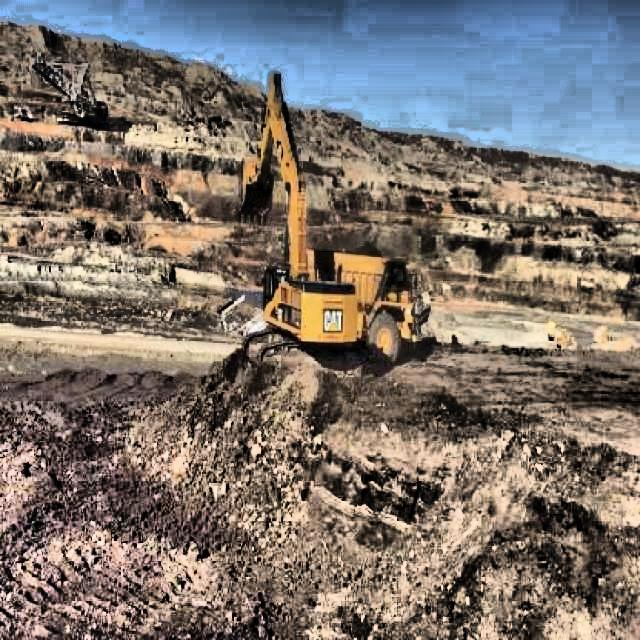dump_truck: (310, 238, 436, 364)
excavator: (237, 70, 365, 372)
